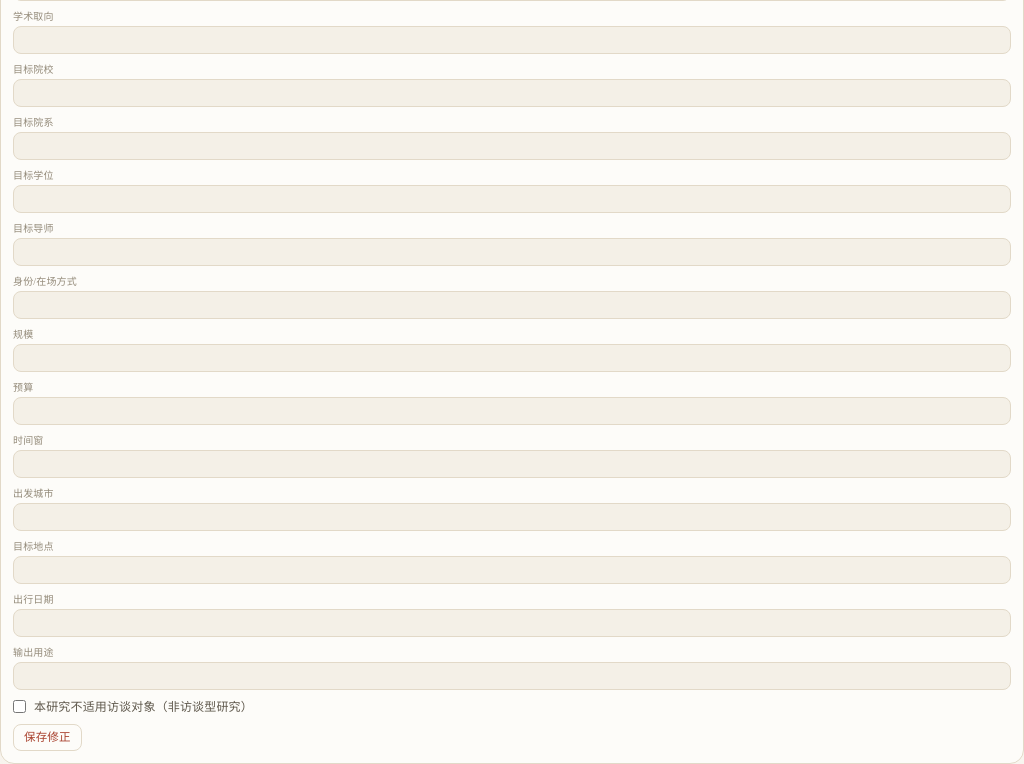
Test case: BasicInfoPanel 研究信息编辑 › 未改任何字段点保存 → 不发请求并提示
(page scrolled)
Click the button "保存修正" at [47, 737], box [13,724,82,751]
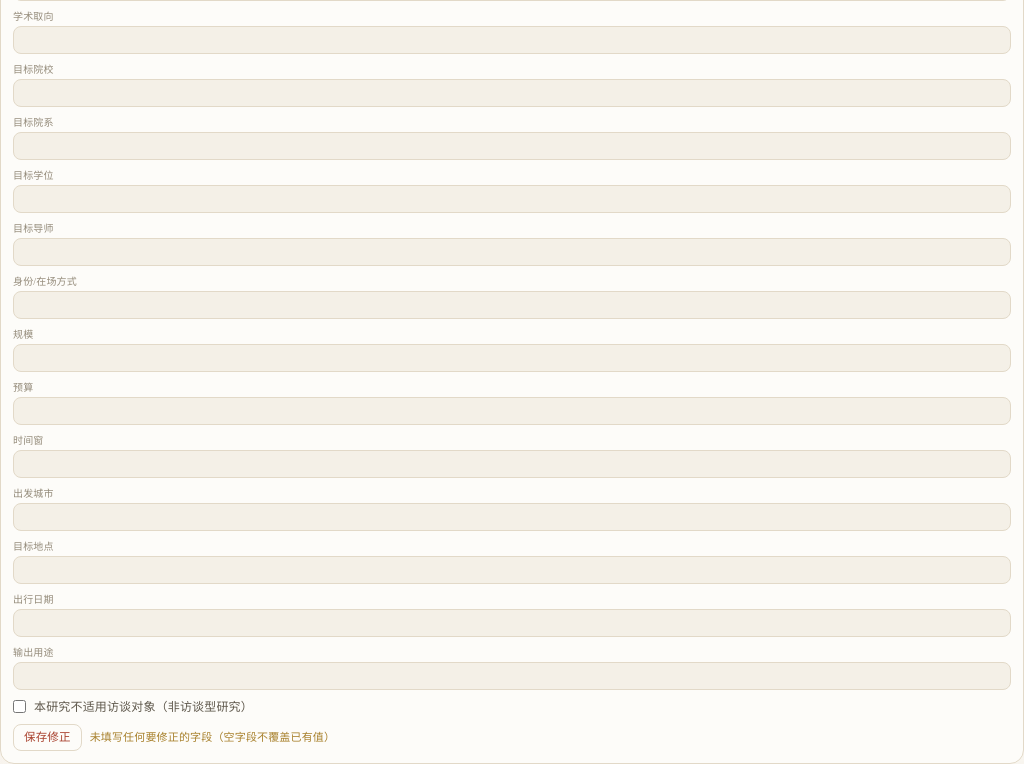
Expected: the text "未填写任何要修正的字段（空字段不覆盖已有值）" is shown, [90,729,335,746]
